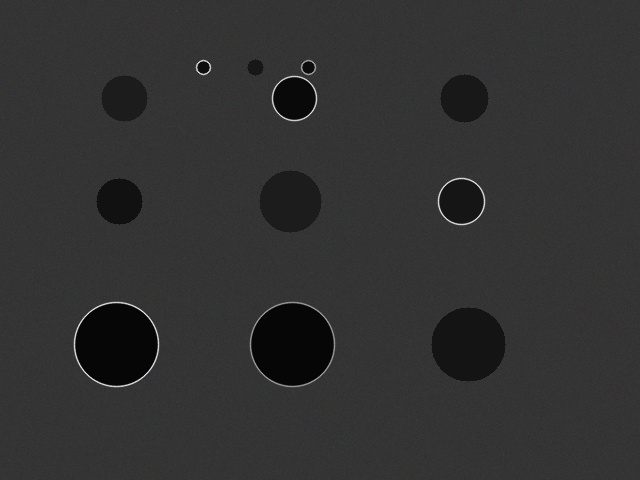hole: (74, 302, 158, 386), (250, 302, 334, 386), (431, 307, 505, 381), (259, 170, 321, 232), (440, 74, 488, 122), (101, 75, 147, 121), (96, 178, 142, 224), (438, 178, 484, 224), (272, 76, 316, 120), (247, 59, 263, 75), (196, 60, 210, 74), (301, 60, 315, 74)
